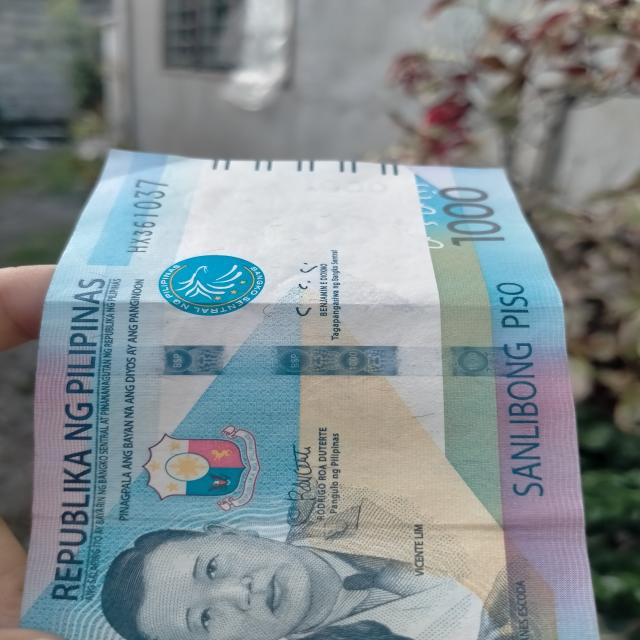security_thread: (38, 344, 570, 383)
see_through_mark: (390, 176, 450, 256)
serial_number: (118, 170, 171, 257)
watermark: (146, 184, 396, 281)
